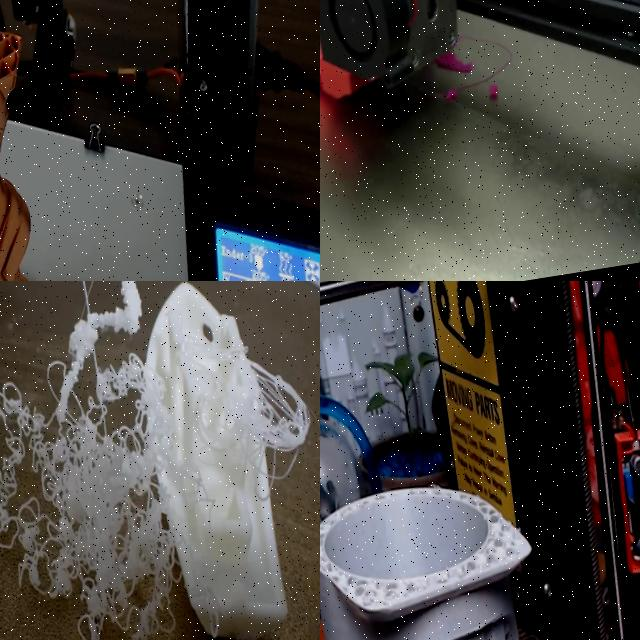spaghetti: (0, 281, 206, 640), (246, 358, 314, 483), (435, 51, 473, 73), (445, 88, 458, 102), (489, 85, 498, 100)
